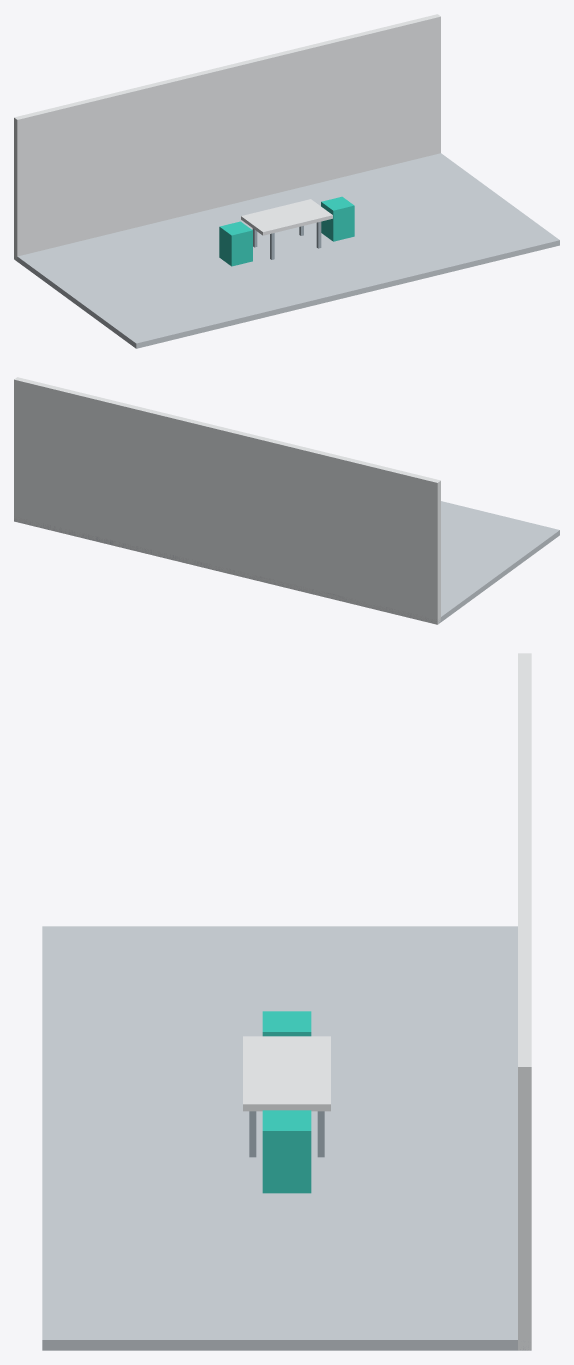
3 renders of one model, top to bottom at view 1: azimuth 30°, elevation 25°; view 2: azimuth 150°, elevation 25°; view 3: azimuth 270°, elevation 25°, orthographic. The views are drawn at different scales.
Parts seen in each view (by area): view 1: Exhibition Booth Concept; view 2: Exhibition Booth Concept; view 3: Exhibition Booth Concept.
Part boxes in pixels (x1,y1,x2,y2): Exhibition Booth Concept: [14, 14, 559, 348]; Exhibition Booth Concept: [14, 377, 559, 624]; Exhibition Booth Concept: [42, 653, 531, 1350].
Size of the model in its own units: 10 by 3.2 by 5.
